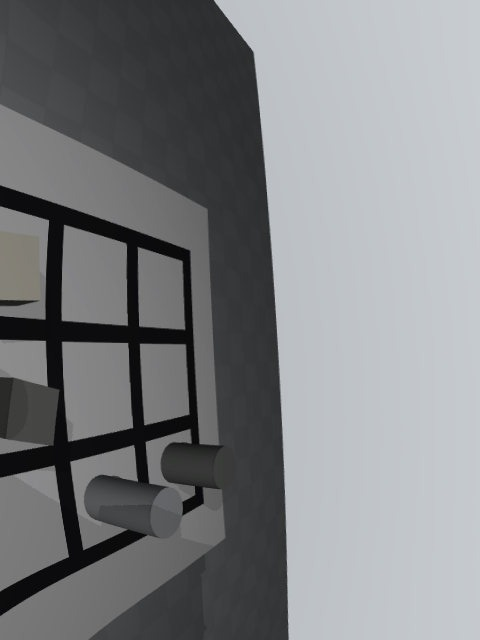can: (84, 475, 183, 539)
cube: (0, 377, 60, 446)
cylinder: (160, 443, 235, 489)
foam: (0, 231, 41, 306)
